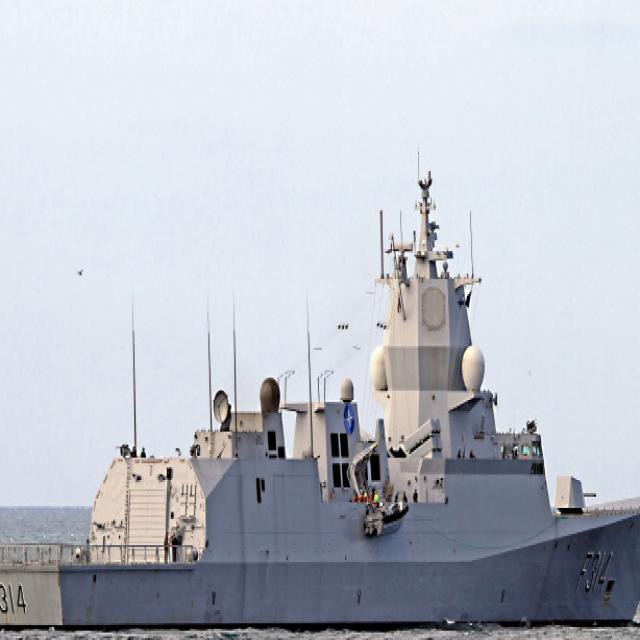Fragata: (1, 163, 640, 640)
